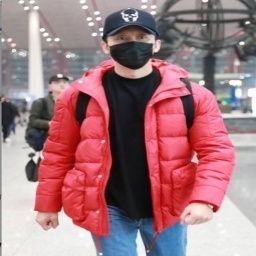correctlyWear: (100, 28, 161, 70)
noWear: (48, 77, 70, 92)
